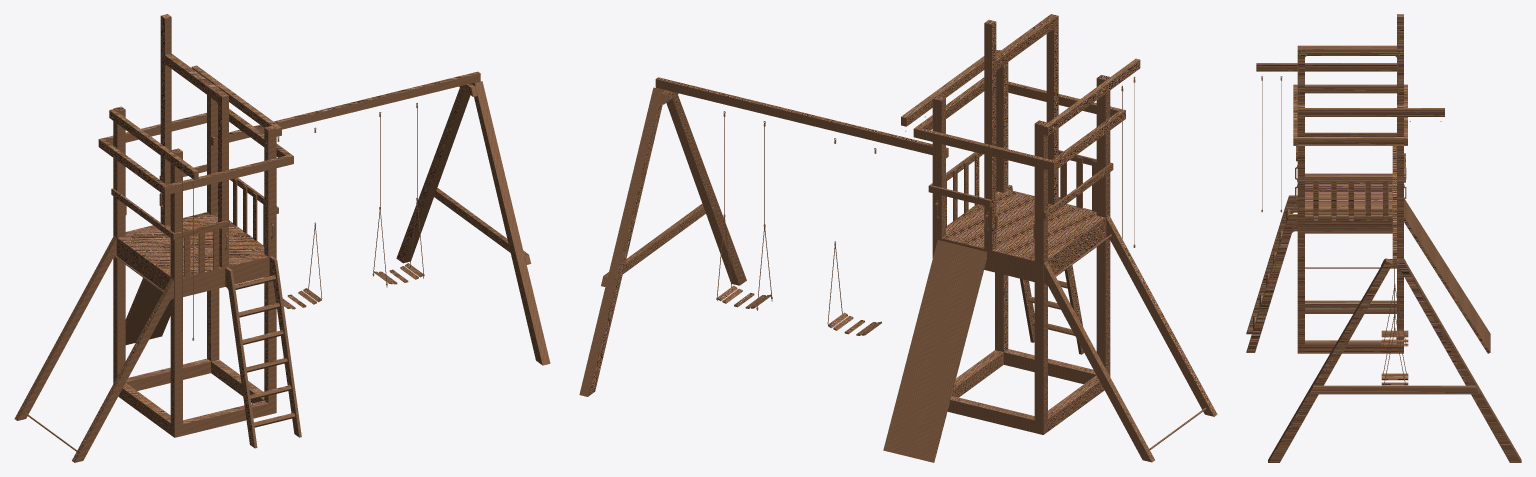
The model's file is Parte1.obj.
3 renders of one model, left to right at view 1: azimuth 30°, elevation 25°; view 2: azimuth 150°, elevation 25°; view 3: azimuth 270°, elevation 25°, orthographic. The views are drawn at different scales.
Parts seen in each view (by area): view 1: sub02; view 2: sub02; view 3: sub02.
Boxes of the visible parts, left/top/right/bottom form: sub02: left=14, top=14, right=550, bottom=462; sub02: left=579, top=14, right=1217, bottom=462; sub02: left=1246, top=14, right=1521, bottom=462.
Size of the model in its own units: 1849 by 1408 by 1101.
1 material, 1 textured.
